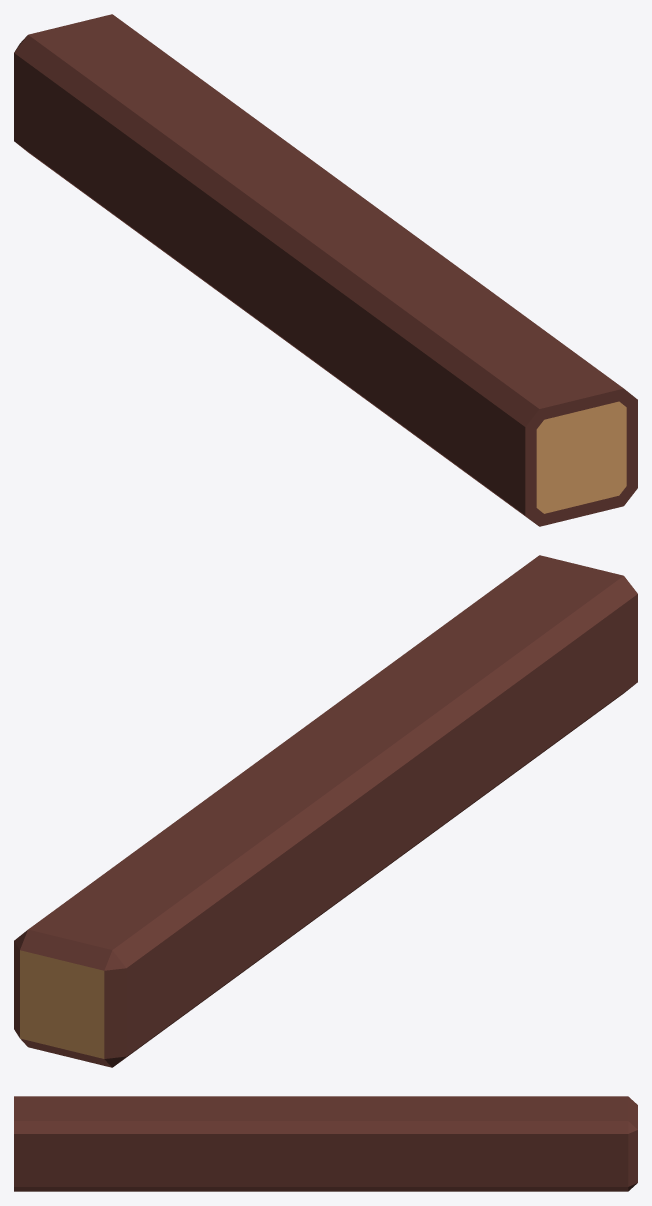
Rendered from Stump 2.fbx.
3 views of the same model, one above another, from view 1: azimuth 30°, elevation 25°; view 2: azimuth 150°, elevation 25°; view 3: azimuth 270°, elevation 25° (orthographic). The views are drawn at different scales.
Visible parts, largest first — view 1: Stump_2; view 2: Stump_2; view 3: Stump_2.
Part boxes in pixels (x1=…): Stump_2: x1=14, y1=14, x2=637, y2=526; Stump_2: x1=14, y1=555, x2=637, y2=1067; Stump_2: x1=14, y1=1096, x2=637, y2=1191.
Size of the model in its own units: 0.2 by 0.2 by 1.6.
